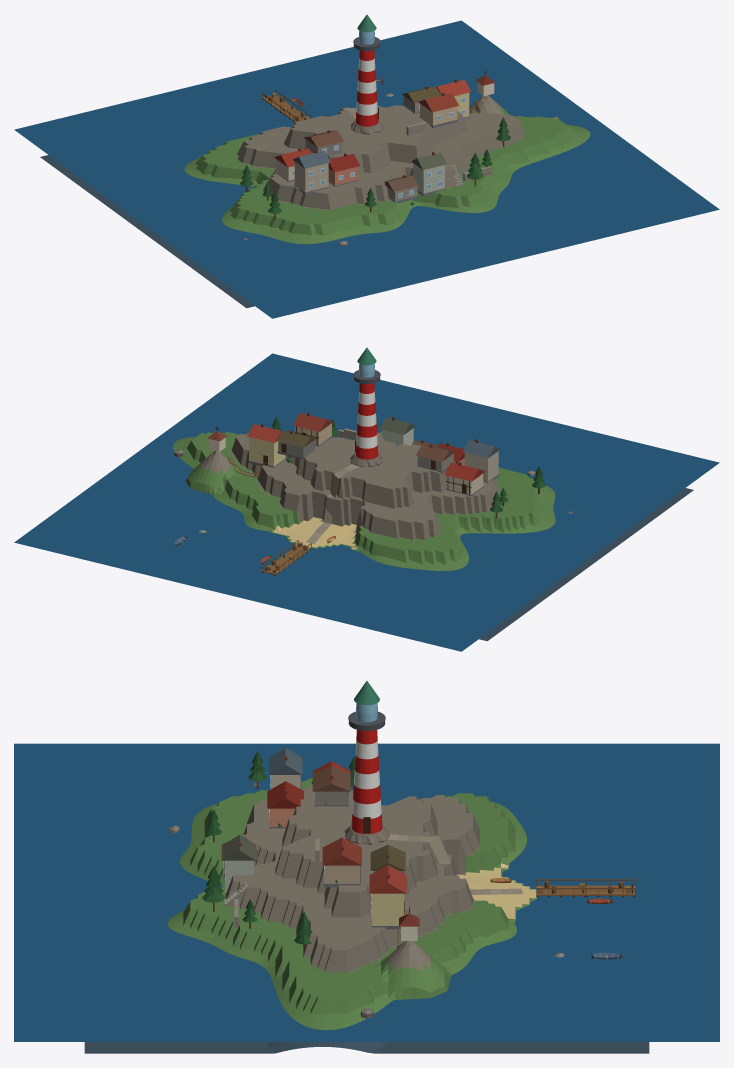
Rendered from scene_good_v6.obj.
3 renders of one model, top to bottom at view 1: azimuth 30°, elevation 25°; view 2: azimuth 150°, elevation 25°; view 3: azimuth 270°, elevation 25°, orthographic. The views are drawn at different scales.
Visible parts, largest first — view 1: water, terrain, lighthouse_tower, house_3_two_story, house_9_two_story, house_7_timber, house_4_timber, house_2_stone, house_8_stone, house_6_two_story, house_1_timber, house_5_stone; view 2: water, terrain, lighthouse_tower, house_6_two_story, house_3_two_story, house_1_timber, house_7_timber, house_5_stone, house_2_stone, house_9_two_story, path; view 3: water, terrain, lighthouse_tower, house_6_two_story, house_7_timber, house_2_stone, house_4_timber, house_9_two_story, house_3_two_story, path, house_5_stone, pier_2 (+1 smaller).
Part boxes in pixels (box(x1,y1,x2,y2)): water: box(14, 20, 719, 318); terrain: box(40, 95, 590, 308); lighthouse_tower: box(355, 50, 378, 126); house_3_two_story: box(293, 150, 330, 194); house_9_two_story: box(411, 152, 446, 195); house_7_timber: box(418, 92, 458, 127); house_4_timber: box(328, 153, 359, 186); house_2_stone: box(304, 130, 343, 156); house_8_stone: box(384, 175, 418, 202); house_6_two_story: box(436, 79, 471, 118); house_1_timber: box(274, 148, 311, 181); house_5_stone: box(402, 86, 441, 113); water: box(14, 353, 719, 651); terrain: box(173, 431, 693, 641); lighthouse_tower: box(355, 383, 378, 459); house_6_two_story: box(247, 423, 285, 467); house_3_two_story: box(462, 439, 500, 482); house_1_timber: box(444, 462, 485, 495); house_7_timber: box(293, 412, 333, 446); house_5_stone: box(276, 430, 316, 459); house_2_stone: box(416, 444, 455, 473); house_9_two_story: box(380, 416, 415, 446); path: box(306, 464, 359, 543); water: box(14, 743, 719, 1041); terrain: box(84, 778, 649, 1053); lighthouse_tower: box(351, 730, 382, 833); house_6_two_story: box(369, 865, 406, 929); house_7_timber: box(322, 837, 361, 887); house_2_stone: box(312, 766, 350, 806); house_4_timber: box(267, 781, 303, 828); house_9_two_story: box(223, 834, 255, 894); house_3_two_story: box(269, 747, 302, 789); path: box(387, 834, 522, 894); house_5_stone: box(370, 845, 405, 873); pier_2: box(586, 879, 635, 897).
Bounding box in the file's own units: 100 × 35.06 × 100.
